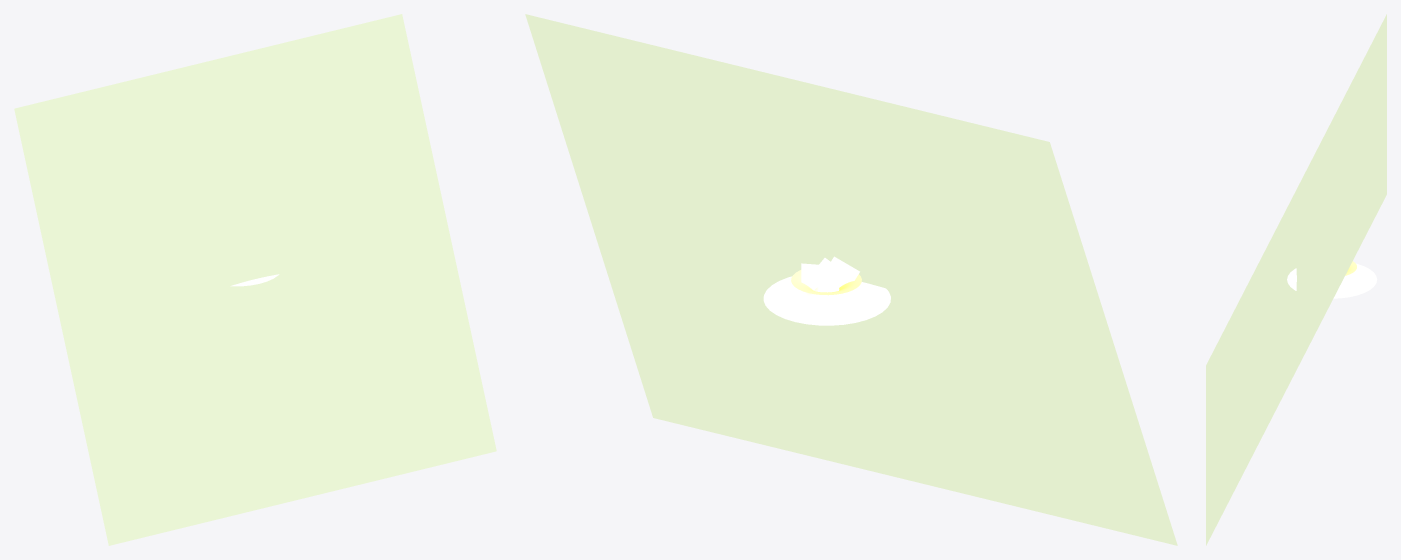
Rendered from planes.gltf.
The picture shows the model from 3 angles, left to right: view 1: azimuth 30°, elevation 25°; view 2: azimuth 150°, elevation 25°; view 3: azimuth 270°, elevation 25°; orthographic projection. The views are drawn at different scales.
Visible parts, largest first — view 1: Plane.002; view 2: Plane.002, QuadObject.001; view 3: Plane.002, QuadObject.001.
Boxes of the visible parts, bbox=[...] form: Plane.002: bbox=[14, 14, 496, 545]; Plane.002: bbox=[525, 14, 1177, 545]; QuadObject.001: bbox=[763, 276, 890, 325]; Plane.002: bbox=[1206, 14, 1386, 545]; QuadObject.001: bbox=[1287, 263, 1377, 298].
Size of what is drawn, in the model's own units: 24 by 21.75 by 10.14.
Materials: 12 (9 with a texture image).
